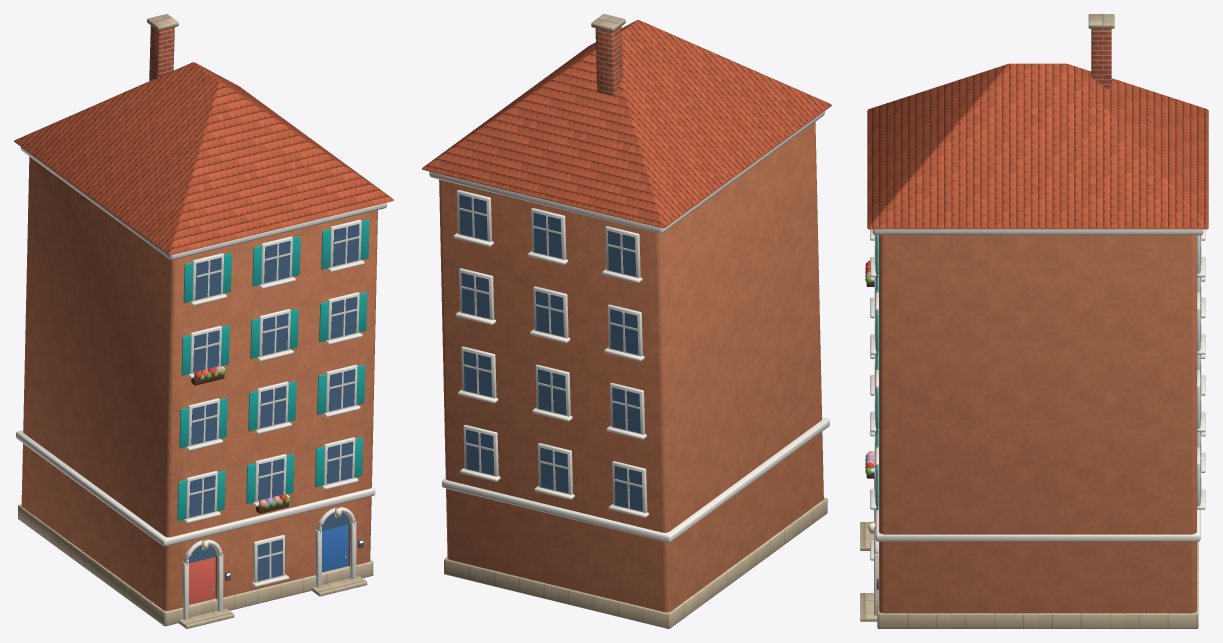
File: house_h.gltf
3 renders of one model, left to right at view 1: azimuth 30°, elevation 25°; view 2: azimuth 150°, elevation 25°; view 3: azimuth 270°, elevation 25°, orthographic. The views are drawn at different scales.
Parts seen in each view (by area): view 1: house_h_mesh, INT_door_house_h_0, INT_door_house_h_1; view 2: house_h_mesh; view 3: house_h_mesh.
Part boxes in pixels (x1,y1,x2,y2): house_h_mesh: (14, 14, 393, 628); INT_door_house_h_0: (189, 557, 215, 604); INT_door_house_h_1: (322, 524, 348, 572); house_h_mesh: (422, 14, 831, 628); house_h_mesh: (860, 14, 1208, 628).
Size of what is drawn, in the model's own units: 9.89 by 21.12 by 12.06.
Materials: 20 (4 with a texture image).
